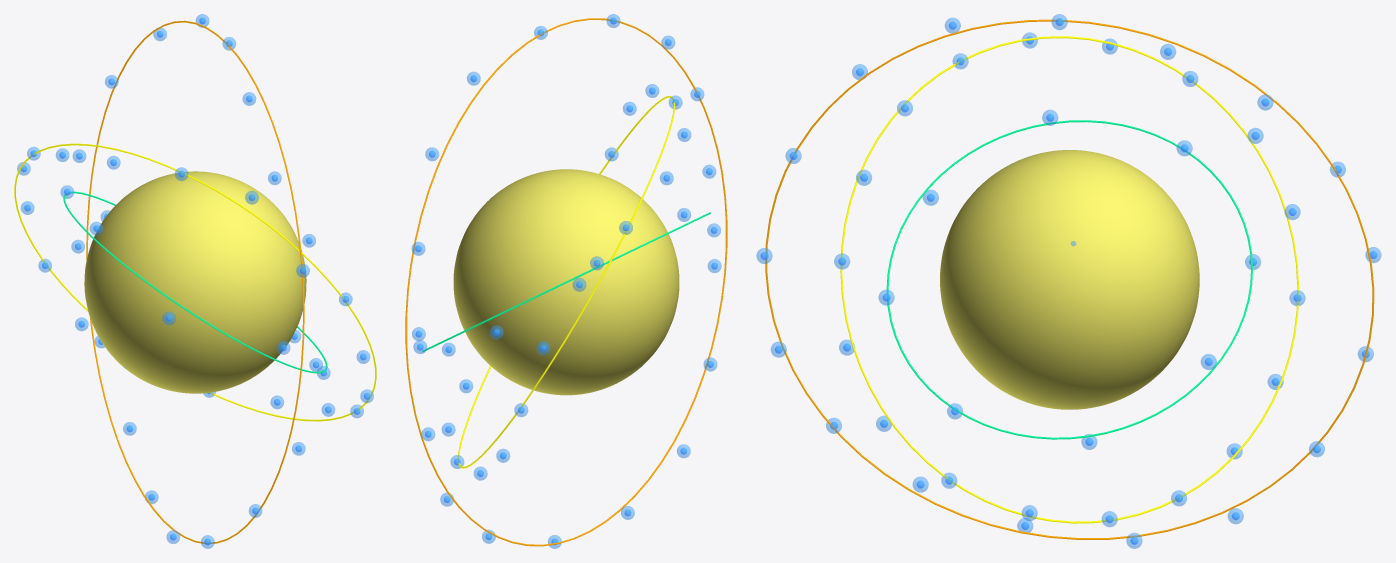
3 renders of one model, left to right at view 1: azimuth 30°, elevation 25°; view 2: azimuth 150°, elevation 25°; view 3: azimuth 270°, elevation 25°, orthographic. The views are drawn at different scales.
Parts seen in each view (by area): view 1: Rh, object 61, object 24, object 7; view 2: Rh, object 61, object 24, object 7; view 3: Rh, object 61, object 24, object 7.
Part boxes in pixels (x1,y1,x2,y2): Rh: [84, 171, 306, 393]; object 61: [86, 20, 304, 543]; object 24: [14, 143, 376, 421]; object 7: [63, 191, 327, 373]; Rh: [453, 169, 679, 395]; object 61: [405, 18, 727, 546]; object 24: [457, 96, 675, 468]; object 7: [422, 212, 710, 351]; Rh: [940, 150, 1199, 409]; object 61: [765, 19, 1374, 539]; object 24: [840, 36, 1299, 523]; object 7: [886, 120, 1252, 439].
Size of the model in its own units: 3.23 by 6.06 by 6.14.
